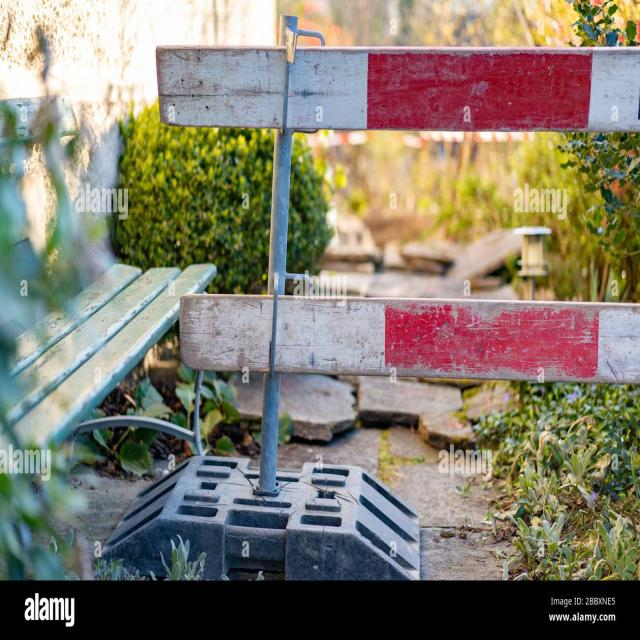cone: (147, 21, 640, 589)
